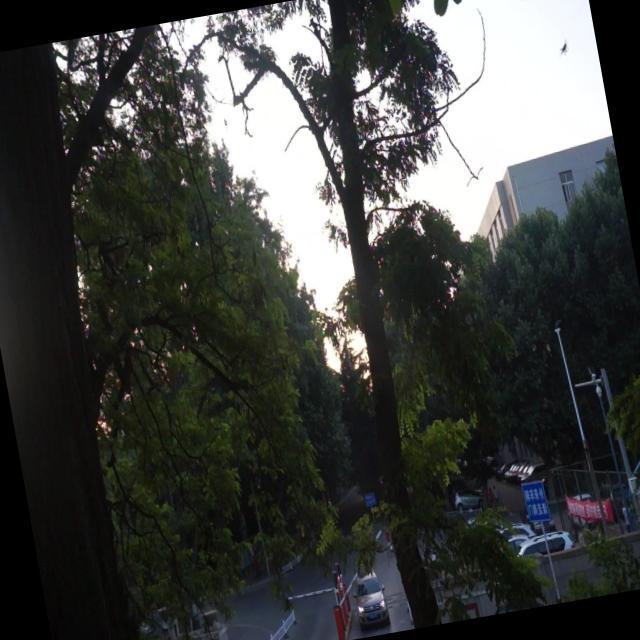drone: (557, 36, 572, 58)
